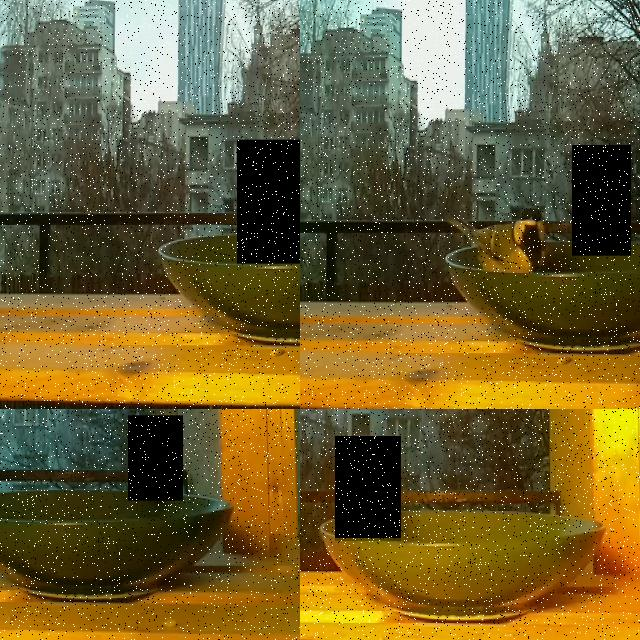Bogatka: (445, 205, 555, 278), (572, 145, 631, 256)
Modraszka: (128, 415, 183, 501)
Wrobel: (237, 139, 300, 263), (335, 436, 401, 540)
